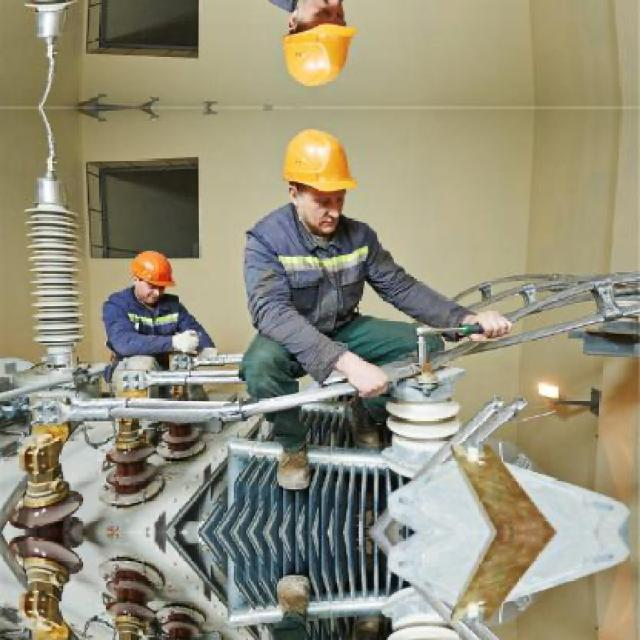con casco: (263, 120, 370, 262), (100, 243, 189, 327)
